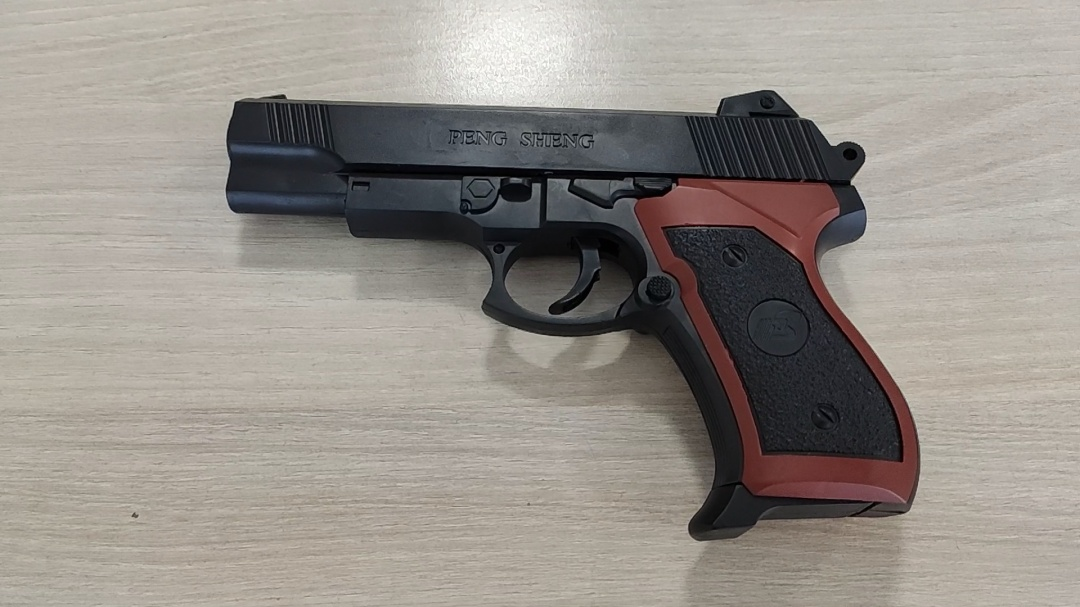gun: (224, 90, 921, 543)
